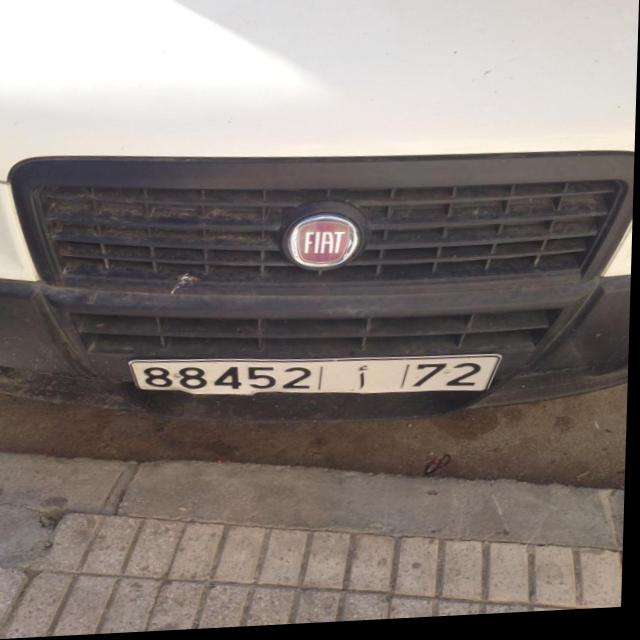License-Plate: (131, 359, 504, 399)
